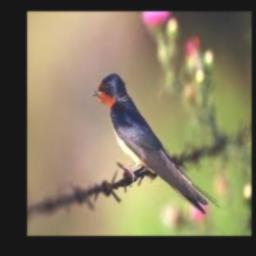Swallow: (92, 75, 220, 215)
